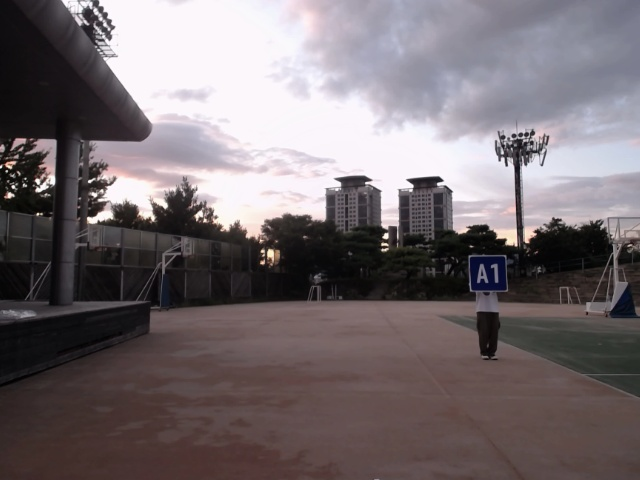delivery_a1: (469, 255, 507, 292)
